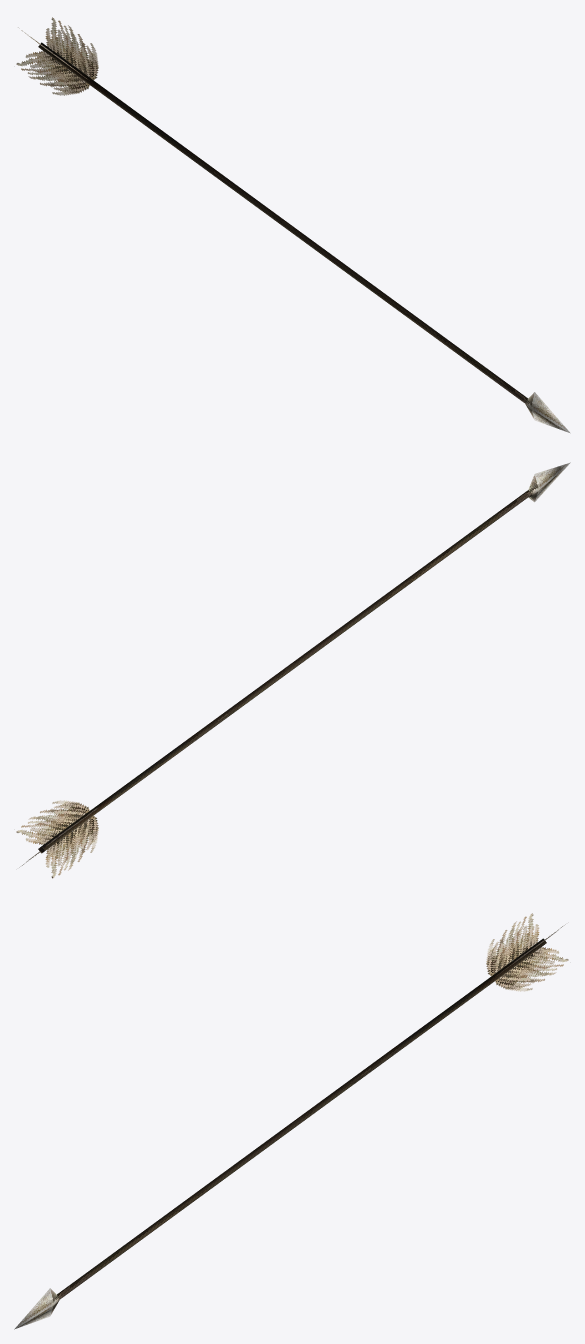
The model's file is blackrobberarcher_arrow.glb.
3 views of the same model, one above another, from view 1: azimuth 30°, elevation 25°; view 2: azimuth 150°, elevation 25°; view 3: azimuth 330°, elevation 25° (orthographic).
Visible parts, largest first — view 1: blackrobberarcher_bow; view 2: blackrobberarcher_bow; view 3: blackrobberarcher_bow.
Boxes of the visible parts, <box> form: blackrobberarcher_bow: <box>16,17,570,433</box>; blackrobberarcher_bow: <box>16,462,570,878</box>; blackrobberarcher_bow: <box>14,913,568,1329</box>.
Size of the model in its own units: 0.6002 by 0.6002 by 13.67.
1 material, 1 textured.
